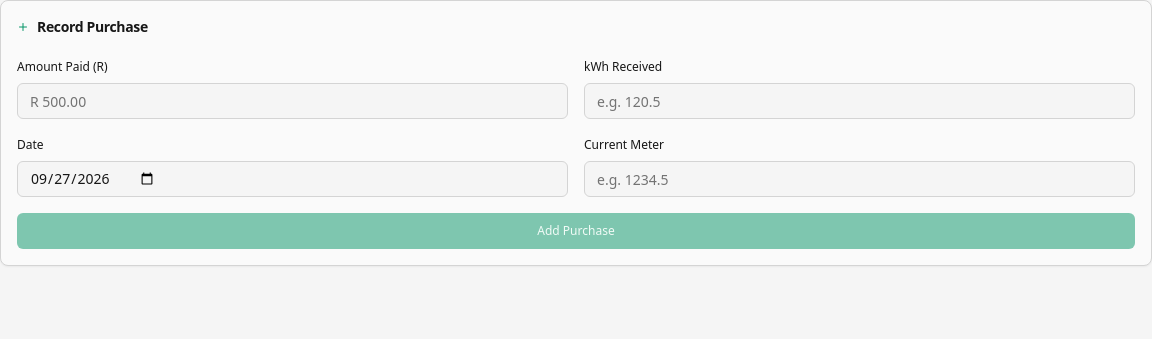
Test: AddPurchaseForm › shows tier limit warning when purchase exceeds current tier capacity
The image size is (1152, 339).
# Tier 1 capacity: 100. unitsAlreadyBought: 80. Remaining: 20.
Type "30" into the number field labelled "kWh Received". click: (860, 101)
box: 584,83 -> 1135,119
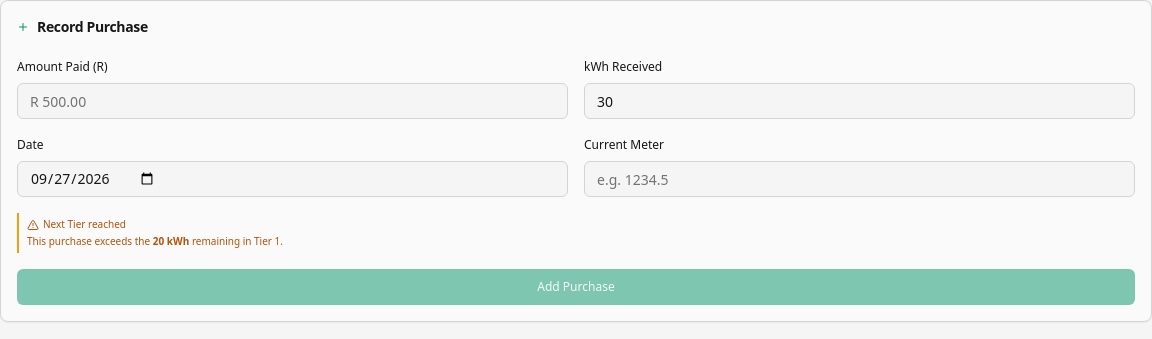
Expected: the text "Next Tier reached" is shown, 27,217 -> 126,231
Expected: the text "This purchase exceeds the 20 kWh remaining in Tier 1." is shown, 27,234 -> 283,248
Expected: the text "20 kWh" is shown, 153,234 -> 189,248
